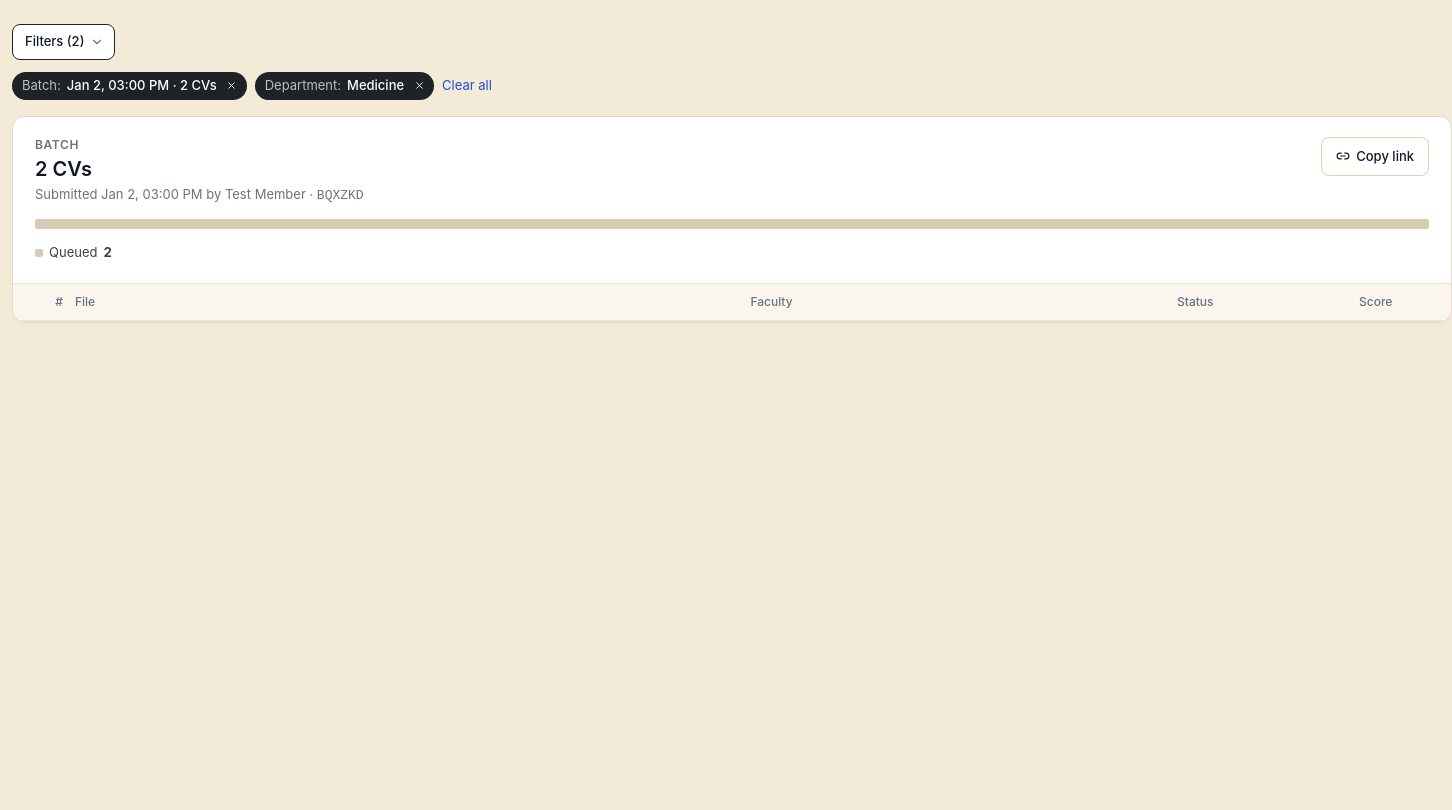
RunHistory narrow Filters panel › below 1024px swaps them for one Filters (n) button that opens the combos
Click the button "Filters (2)". click: (64, 42)
box: [12, 24, 115, 60]
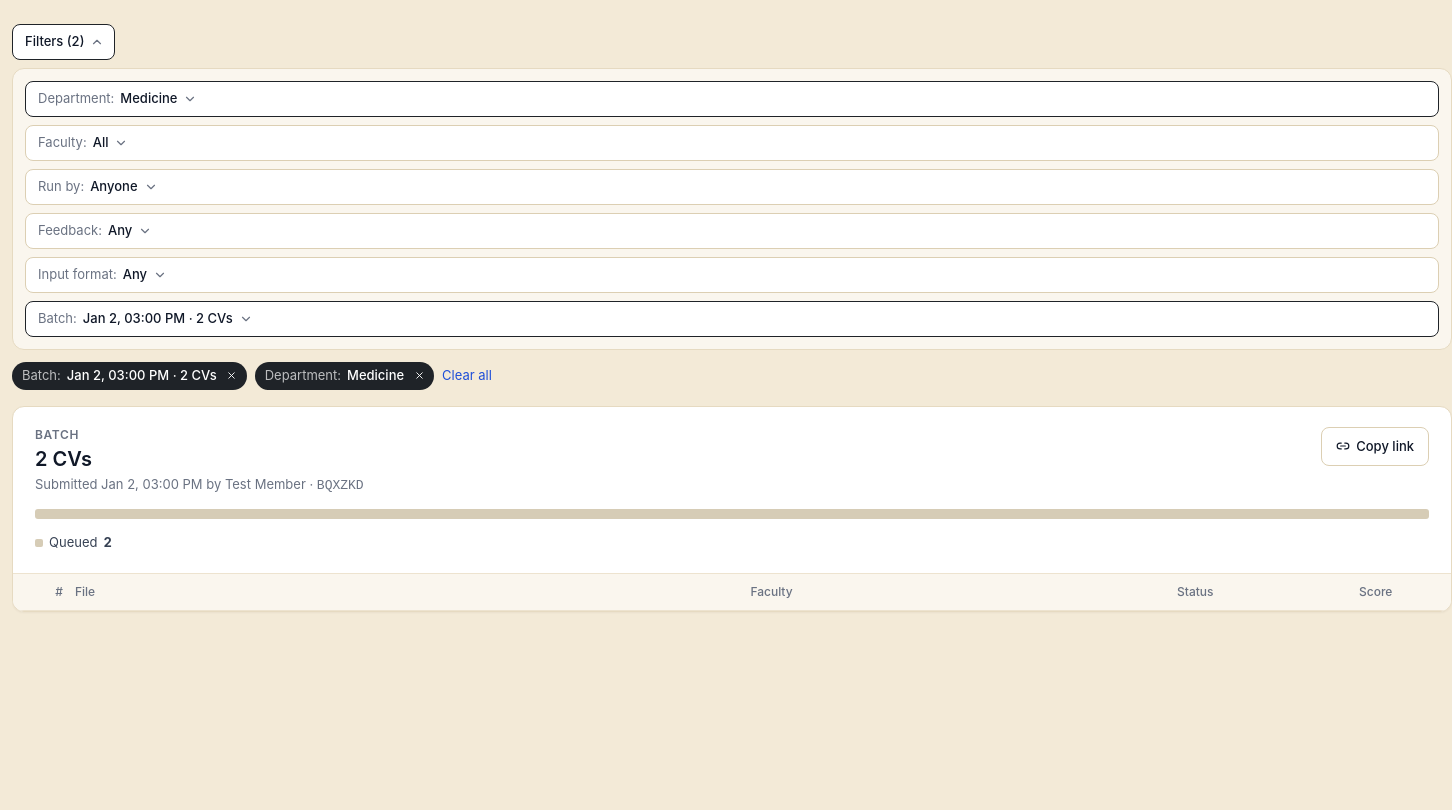
Check: the button "Filters (2)" is expanded, box [12, 24, 115, 60]
Check: the button "Department: Medicine" is shown, box [25, 81, 1439, 117]
Check: the button "Input format: Any" is shown, box [25, 257, 1439, 293]
